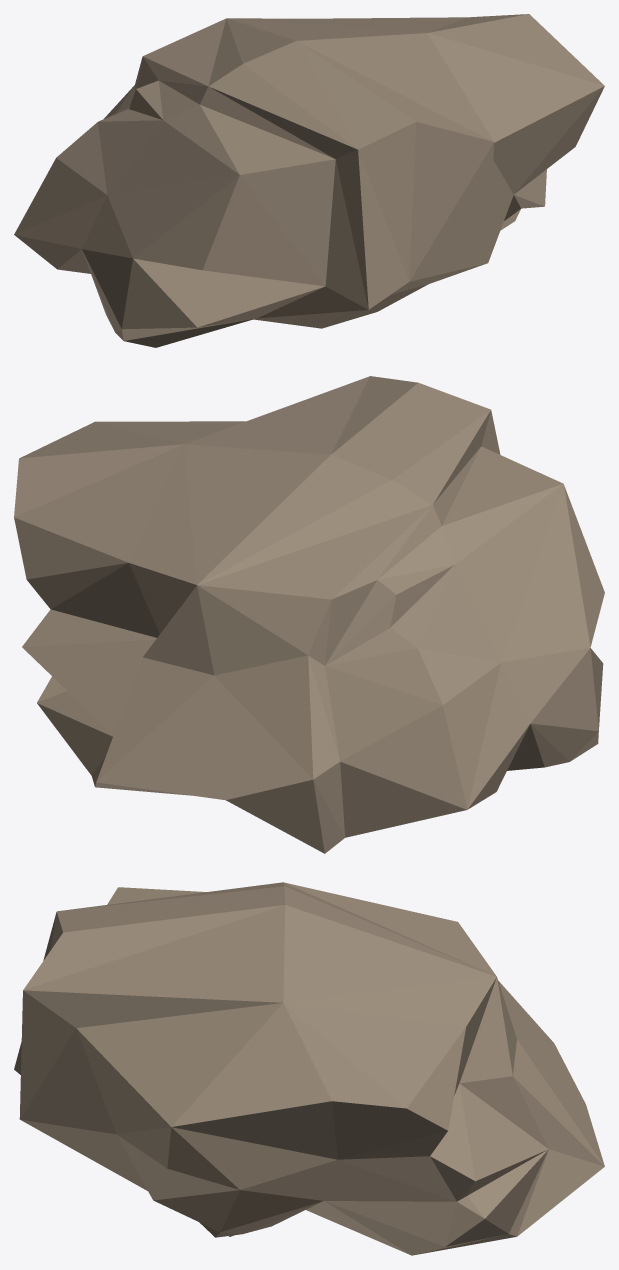
Rendered from SM_Env_Rock_011.fbx.
3 renders of one model, top to bottom at view 1: azimuth 30°, elevation 25°; view 2: azimuth 150°, elevation 25°; view 3: azimuth 270°, elevation 25°, orthographic. The views are drawn at different scales.
Parts seen in each view (by area): view 1: SM_Env_Rock_011; view 2: SM_Env_Rock_011; view 3: SM_Env_Rock_011.
Part boxes in pixels (x1=…): SM_Env_Rock_011: x1=14, y1=14, x2=604, y2=347; SM_Env_Rock_011: x1=14, y1=376, x2=604, y2=853; SM_Env_Rock_011: x1=14, y1=882, x2=604, y2=1255.
Size of the model in its own units: 0.0272 by 0.0151 by 0.0267.
1 material, 1 textured.
